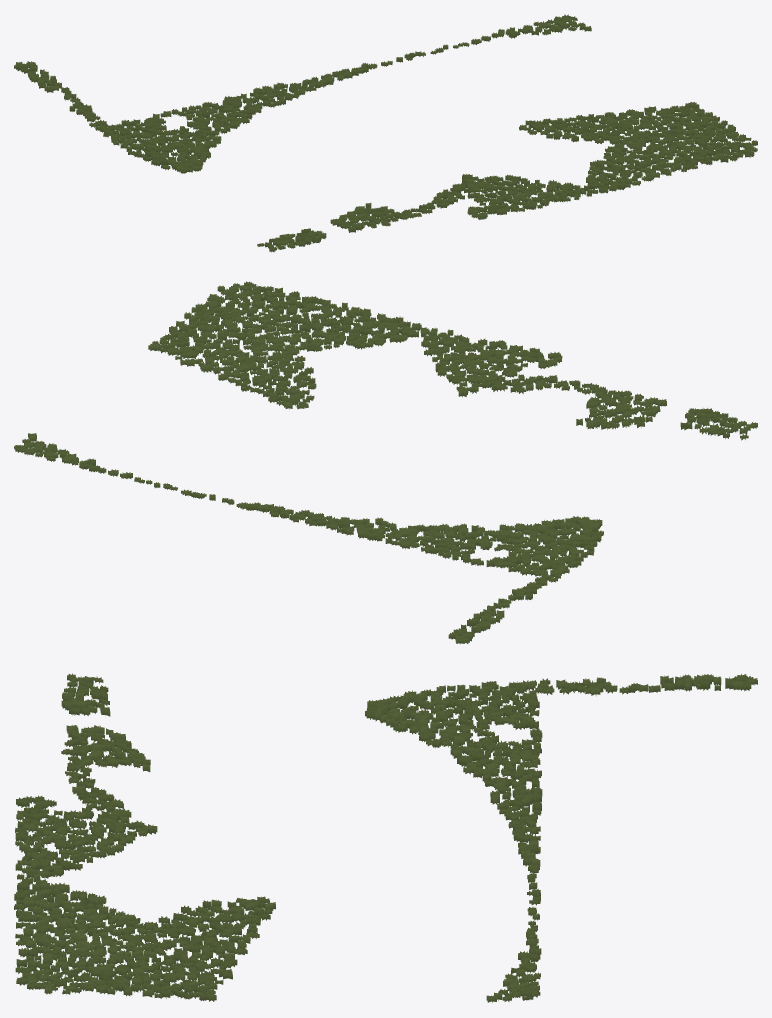
File: TRB8-GRASS-CHUNK-5-3.glb
The picture shows the model from 3 angles, top to bottom: view 1: azimuth 30°, elevation 25°; view 2: azimuth 150°, elevation 25°; view 3: azimuth 270°, elevation 25°; orthographic projection. The views are drawn at different scales.
Visible parts, largest first — view 1: TRB8-GRASS-CHUNK-5-3; view 2: TRB8-GRASS-CHUNK-5-3; view 3: TRB8-GRASS-CHUNK-5-3.
Part boxes in pixels (box(x1,y1,x2,y2)): TRB8-GRASS-CHUNK-5-3: box(14, 14, 757, 252); TRB8-GRASS-CHUNK-5-3: box(14, 281, 757, 644); TRB8-GRASS-CHUNK-5-3: box(14, 673, 757, 1002).
Bounding box in the file's own units: 40.52 × 1.18 × 40.46.
1 material, 1 textured.
